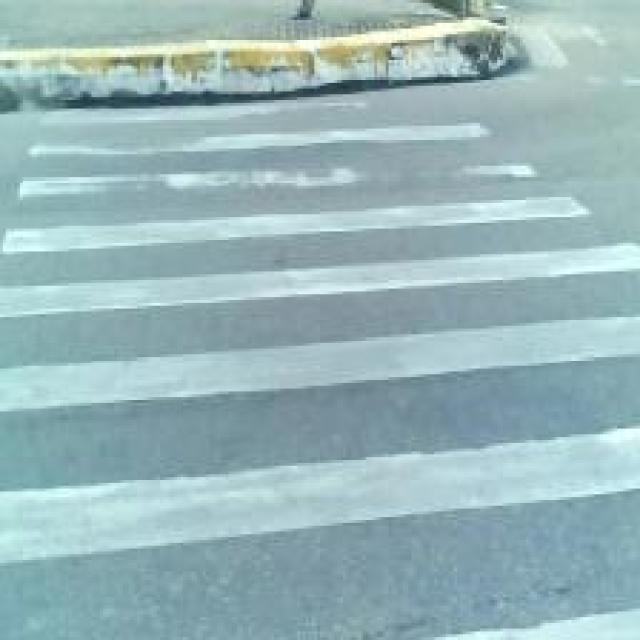walk-crossing: (39, 100, 627, 640)
